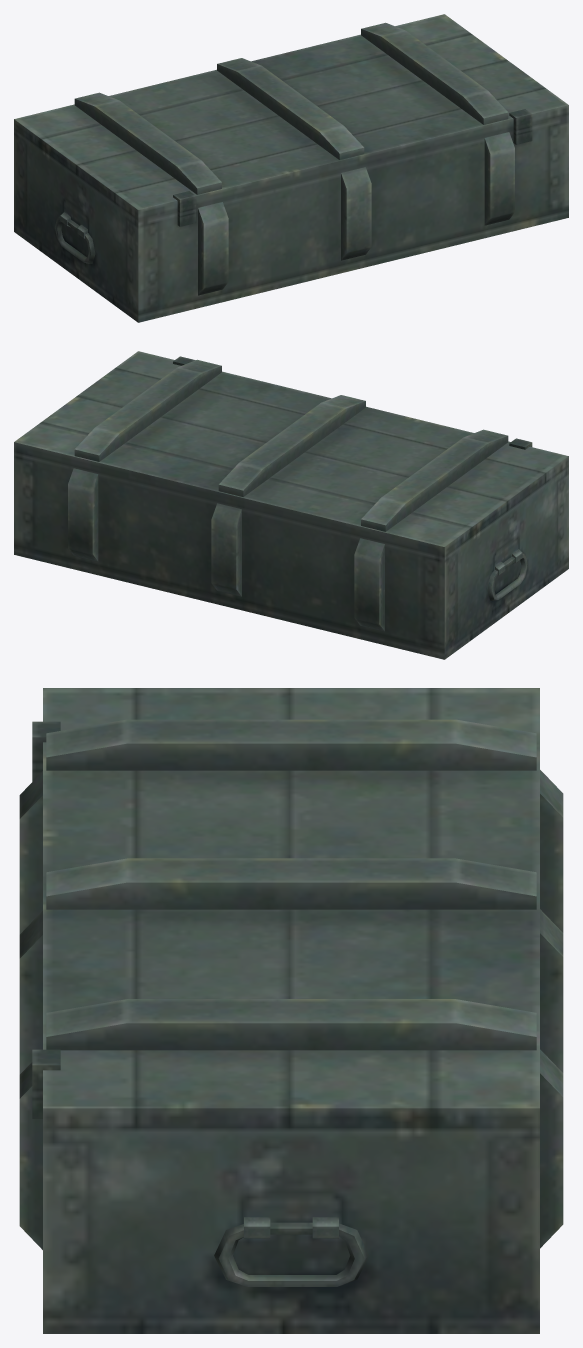
Rendered from crate2.obj.
3 renders of one model, top to bottom at view 1: azimuth 30°, elevation 25°; view 2: azimuth 150°, elevation 25°; view 3: azimuth 270°, elevation 25°, orthographic. The views are drawn at different scales.
Parts seen in each view (by area): view 1: crate2; view 2: crate2; view 3: crate2.
Part boxes in pixels (x1,y1,x2,y2): crate2: (14, 14, 568, 322); crate2: (14, 351, 568, 659); crate2: (19, 688, 563, 1333).
Size of the model in its own units: 34.7 by 9.54 by 18.63.
